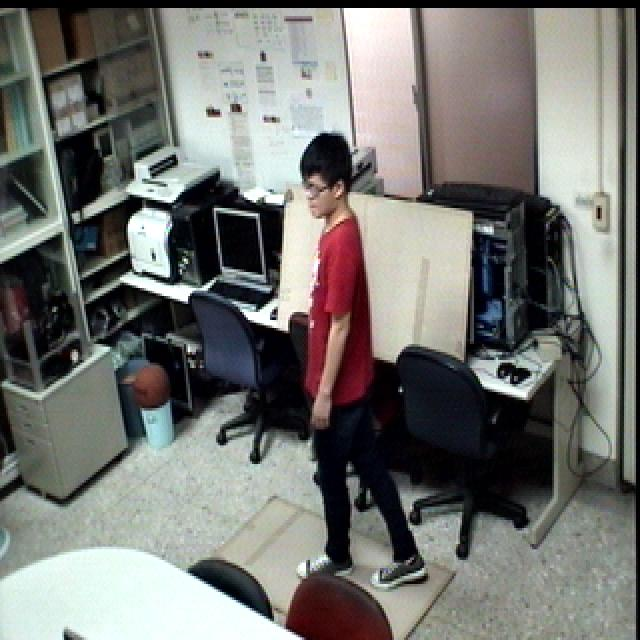stand: (291, 124, 438, 603)
